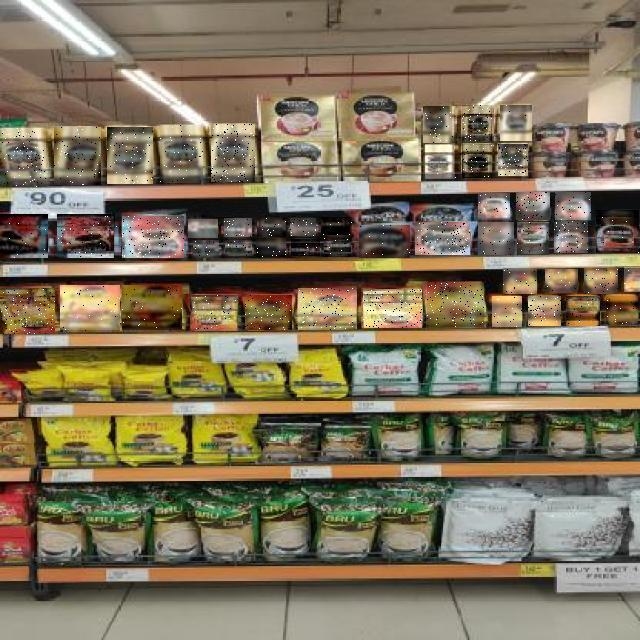Coffee: (123, 286, 183, 332), (60, 286, 120, 332), (54, 127, 101, 185), (58, 214, 118, 258), (107, 127, 153, 184), (122, 216, 184, 258), (2, 128, 46, 187), (427, 282, 484, 327), (211, 124, 255, 182), (0, 288, 55, 334), (160, 125, 203, 183), (298, 288, 356, 330), (363, 289, 422, 328), (0, 214, 48, 258), (596, 210, 639, 253), (415, 222, 470, 255), (190, 295, 238, 331), (359, 225, 410, 258), (245, 295, 292, 330), (478, 222, 514, 255), (500, 105, 532, 141), (426, 144, 458, 179), (424, 106, 454, 143), (554, 221, 588, 253), (462, 105, 492, 141), (517, 222, 549, 255), (462, 144, 492, 178), (566, 296, 600, 326), (555, 192, 591, 220), (528, 296, 561, 326), (498, 144, 528, 176), (516, 192, 550, 220), (492, 296, 522, 327), (478, 194, 510, 222), (607, 296, 639, 324), (584, 268, 618, 294), (503, 269, 537, 295), (545, 269, 578, 293), (322, 217, 354, 235), (188, 219, 218, 238), (256, 238, 286, 257), (257, 218, 286, 237), (225, 218, 253, 237), (324, 238, 351, 257), (291, 239, 320, 256), (290, 218, 316, 236), (193, 240, 219, 258), (225, 240, 252, 257), (624, 267, 640, 292), (458, 300, 460, 302)
